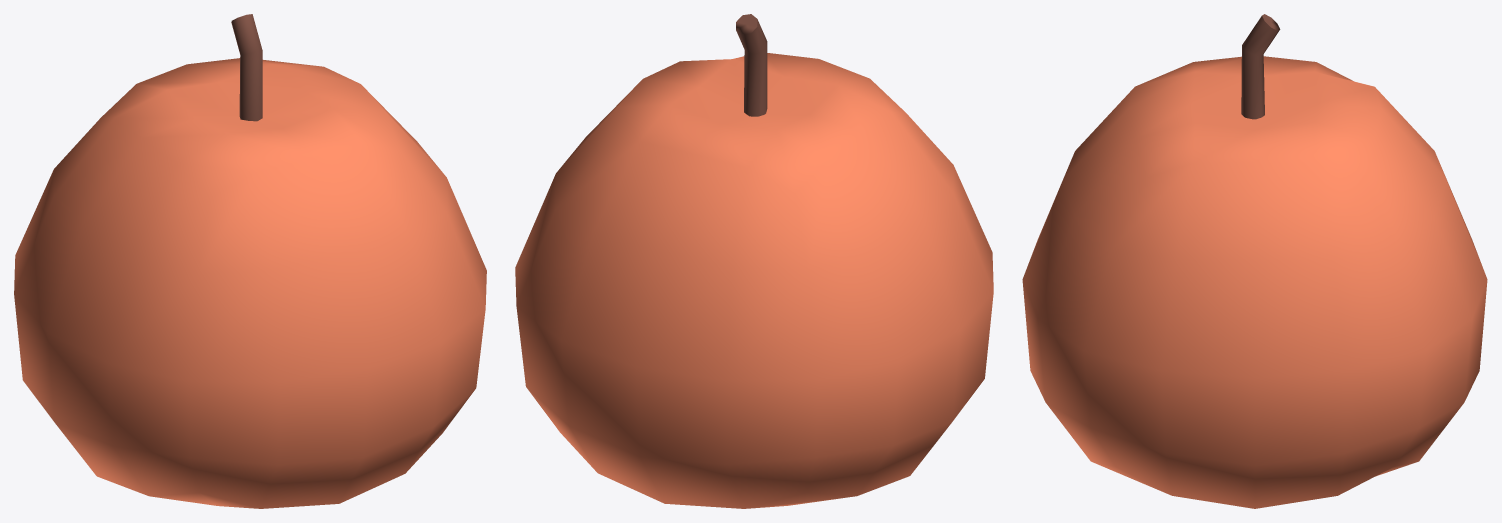
The model's file is Farm_1_Apple_3.glb.
3 renders of one model, left to right at view 1: azimuth 30°, elevation 25°; view 2: azimuth 150°, elevation 25°; view 3: azimuth 270°, elevation 25°, orthographic.
Parts seen in each view (by area): view 1: Farm_1_Apple_3; view 2: Farm_1_Apple_3; view 3: Farm_1_Apple_3.
Boxes of the visible parts, box(x1,y1,x2,y2) form: Farm_1_Apple_3: box(14, 14, 486, 508); Farm_1_Apple_3: box(515, 14, 993, 508); Farm_1_Apple_3: box(1022, 14, 1487, 508).
Bounding box in the file's own units: 0.1866 × 0.1928 × 0.1866.
Materials: 1 (1 with a texture image).
